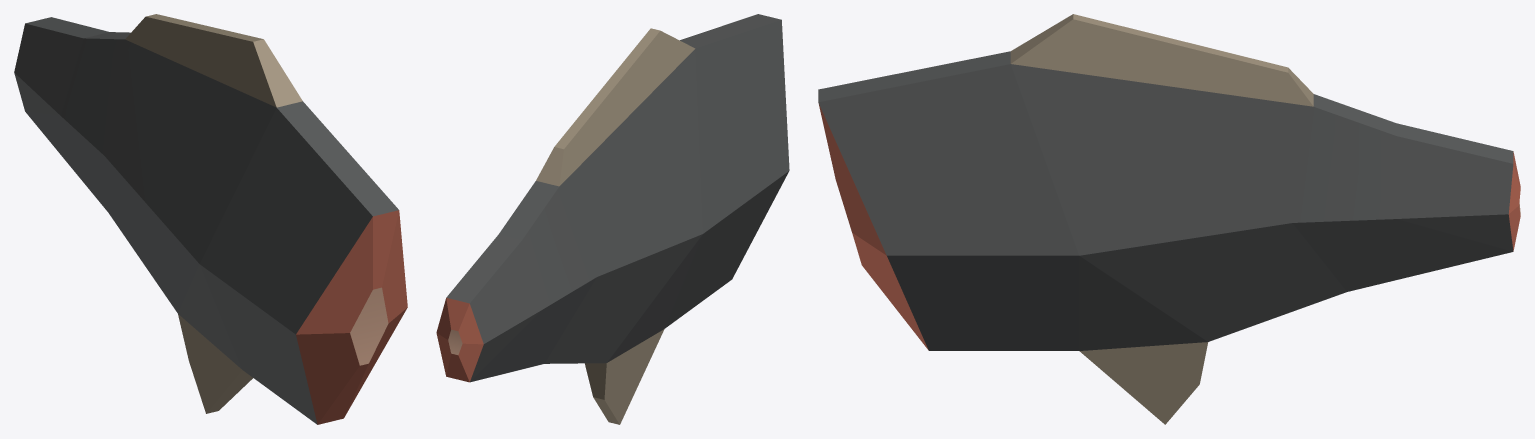
The model's file is kingdom_SM_Item_Meat_Fish_03.gltf.
3 renders of one model, left to right at view 1: azimuth 30°, elevation 25°; view 2: azimuth 150°, elevation 25°; view 3: azimuth 270°, elevation 25°, orthographic. The views are drawn at different scales.
Visible parts, largest first — view 1: SM_Item_Meat_Fish_03; view 2: SM_Item_Meat_Fish_03; view 3: SM_Item_Meat_Fish_03.
Boxes of the visible parts, x1,y1,x2,y2 form: SM_Item_Meat_Fish_03: (14, 14, 407, 424); SM_Item_Meat_Fish_03: (436, 14, 789, 424); SM_Item_Meat_Fish_03: (818, 14, 1520, 424).
Size of the model in its own units: 0.1374 by 0.4758 by 0.7472.
1 material, 1 textured.
